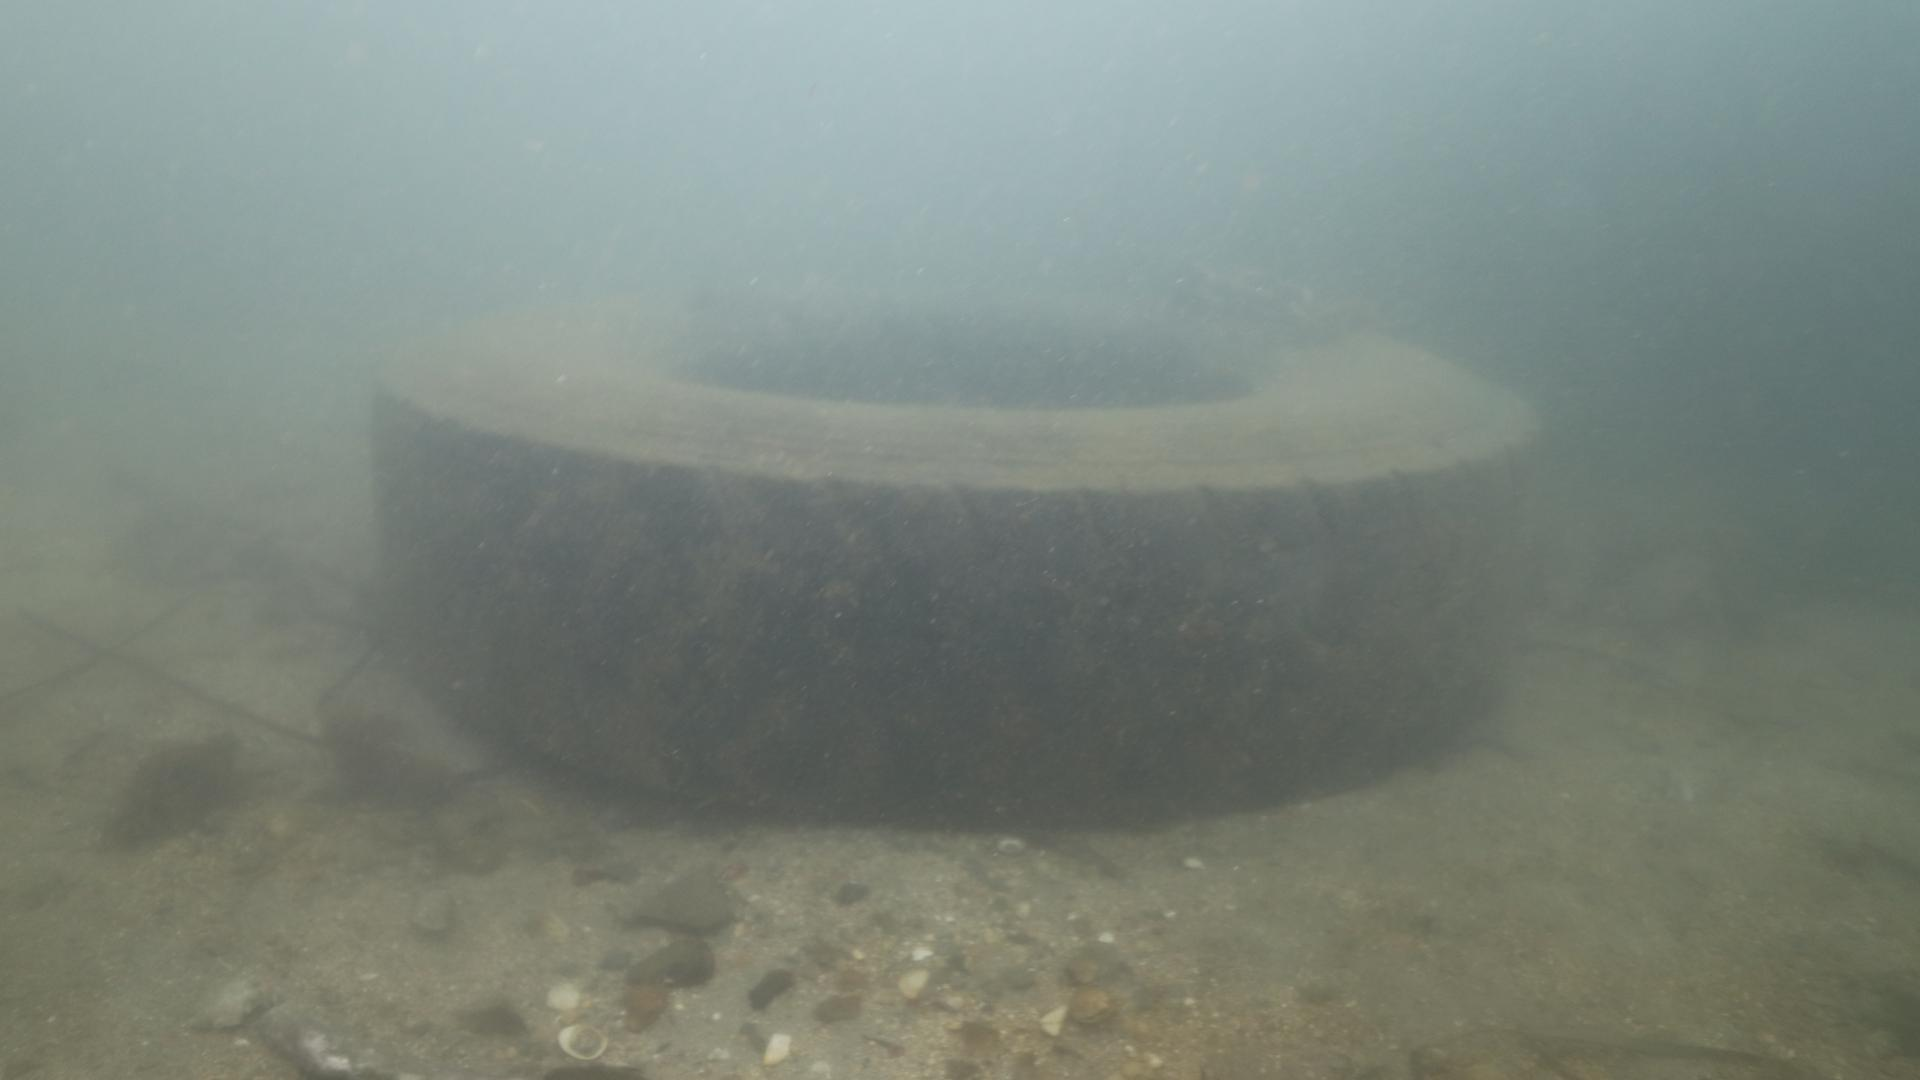tire: (369, 278, 1539, 832)
